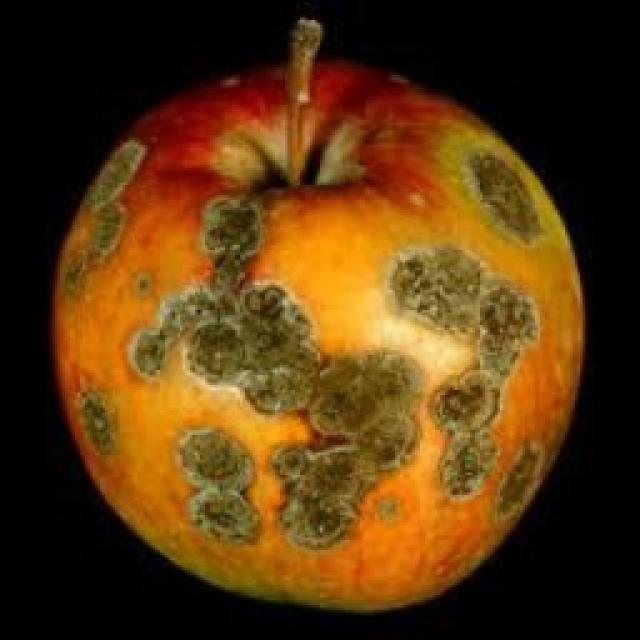defective: (48, 15, 585, 612)
